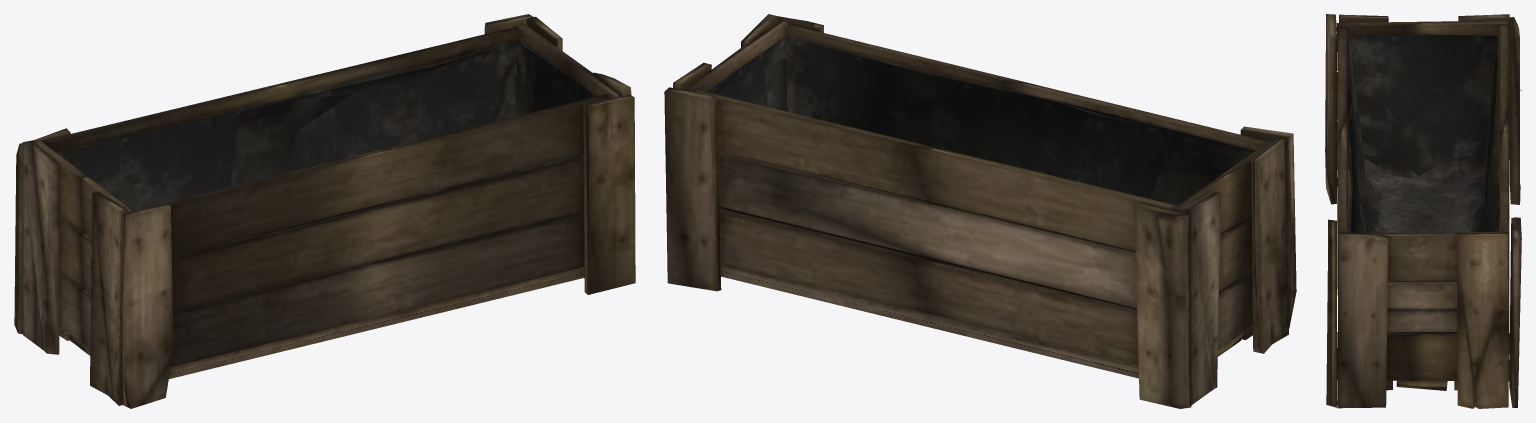
The model's file is planter_box_02.glb.
3 views of the same model, side by side, from view 1: azimuth 30°, elevation 25°; view 2: azimuth 150°, elevation 25°; view 3: azimuth 270°, elevation 25° (orthographic). The views are drawn at different scales.
Visible parts, largest first — view 1: planter_box_02; view 2: planter_box_02; view 3: planter_box_02.
Part boxes in pixels (<box>): planter_box_02: <box>14,14,635,408</box>; planter_box_02: <box>664,14,1296,408</box>; planter_box_02: <box>1325,14,1521,408</box>.
Bounding box in the file's own units: 1.24 × 0.4486 × 0.4619.
Materials: 1 (1 with a texture image).
